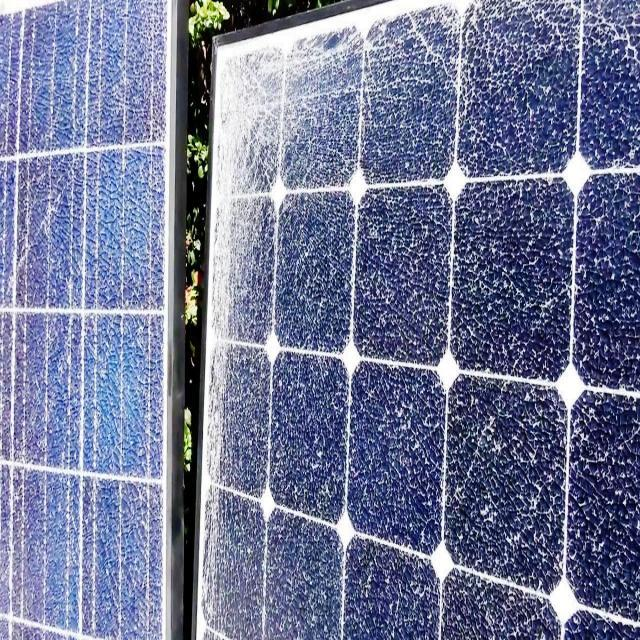faulty: (208, 2, 640, 640), (0, 5, 180, 640)
